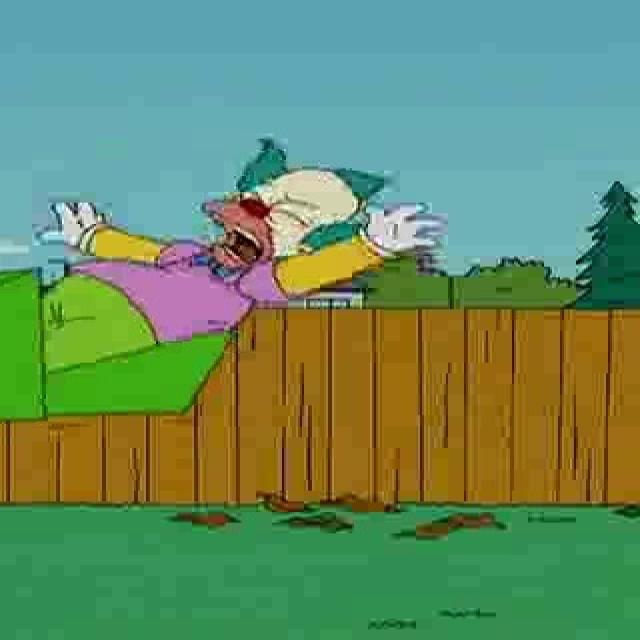Krusty the Clown: (197, 133, 395, 272)
